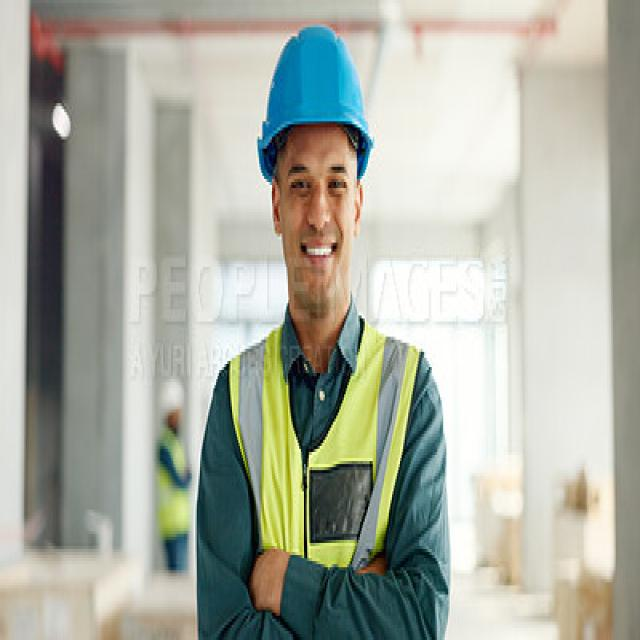helmet: (252, 22, 386, 192)
no-goggles: (272, 157, 358, 211)
vest: (189, 292, 456, 640)
